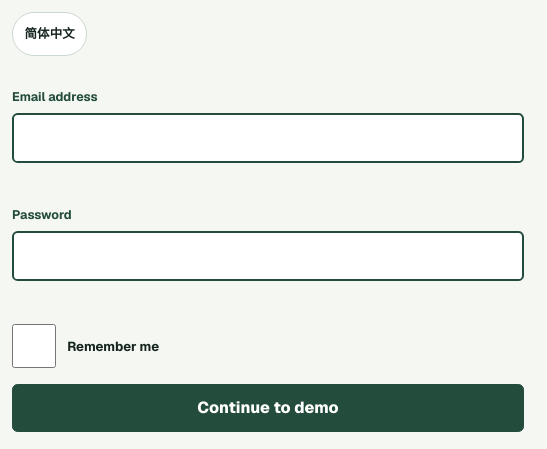
Scenario: LoginForm › associates localized missing and malformed errors without a request
The width and height of the screenshot is (547, 449).
Click the button "Continue to demo".
click(268, 408)  # box [12, 384, 524, 432]
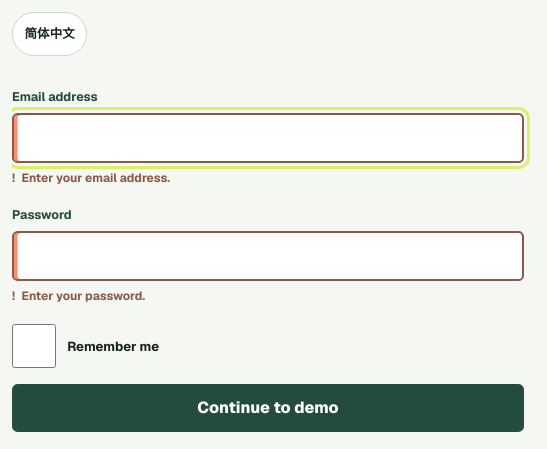
Expected: the field labelled "Email address" is marked as invalid
Expected: the password field labelled "Password" has attribute aria-describedby="login-password-error", [12, 231, 524, 281]
Type "nexa@invalid" into the field labelled "Email address".
click(268, 138); type("nexa@invalid")  # box [12, 113, 524, 163]
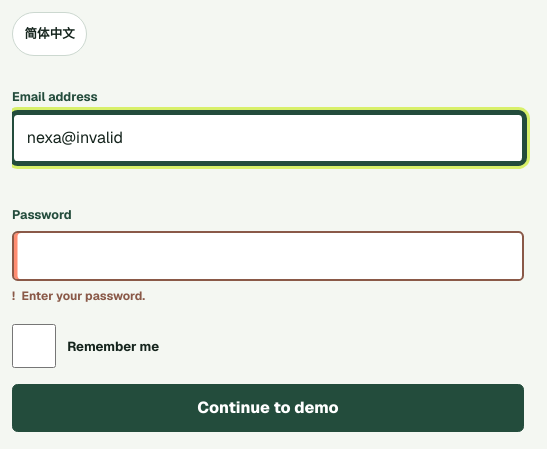
Type "local-only" into the password field labelled "Password".
click(268, 256); type("local-only")  # box [12, 231, 524, 281]
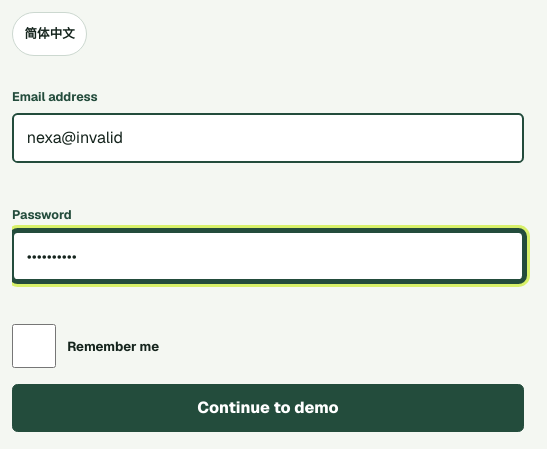
Click the button "Continue to demo".
click(268, 408)  # box [12, 384, 524, 432]
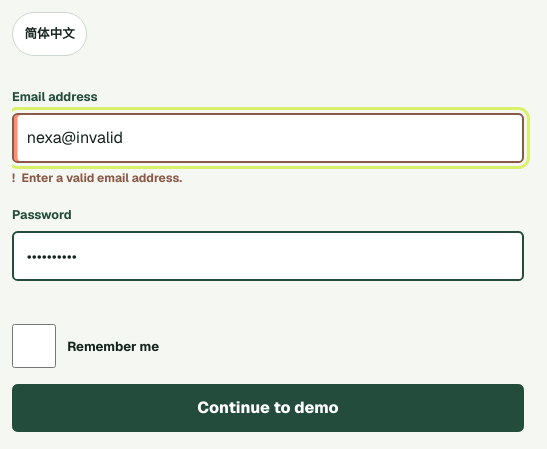
Expected: the text "Enter a valid email address." is shown, [22, 170, 182, 186]
